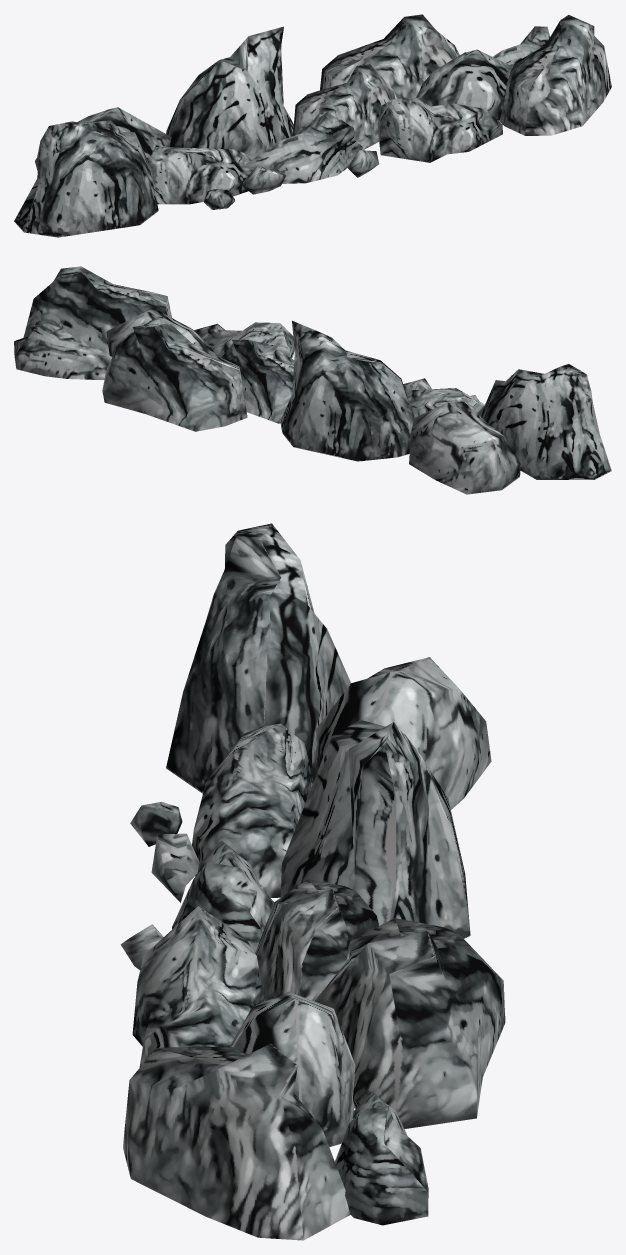
The model's file is STR_WallBoulderA.FBX.
The picture shows the model from 3 angles, top to bottom: view 1: azimuth 30°, elevation 25°; view 2: azimuth 150°, elevation 25°; view 3: azimuth 270°, elevation 25°; orthographic projection. The views are drawn at different scales.
Parts seen in each view (by area): view 1: STR_WallBoulderA; view 2: STR_WallBoulderA; view 3: STR_WallBoulderA.
Boxes of the visible parts, x1=… form: STR_WallBoulderA: x1=14, y1=14, x2=611, y2=237; STR_WallBoulderA: x1=14, y1=266, x2=611, y2=494; STR_WallBoulderA: x1=120, y1=523, x2=505, y2=1240.
Bounding box in the file's own units: 1344 × 236 × 389.
